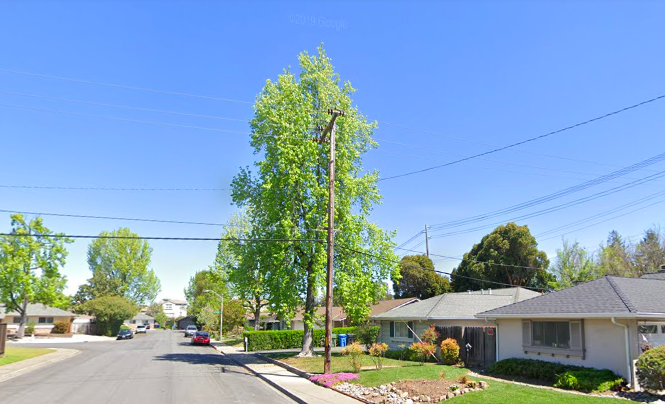tree: (229, 41, 404, 358)
utility_pole: (308, 101, 350, 168)
